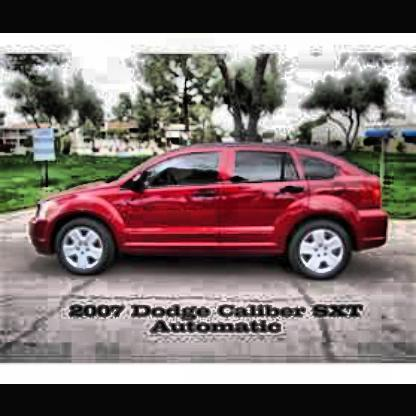Dodge Caliber Wagon 2007: (32, 147, 391, 281)
